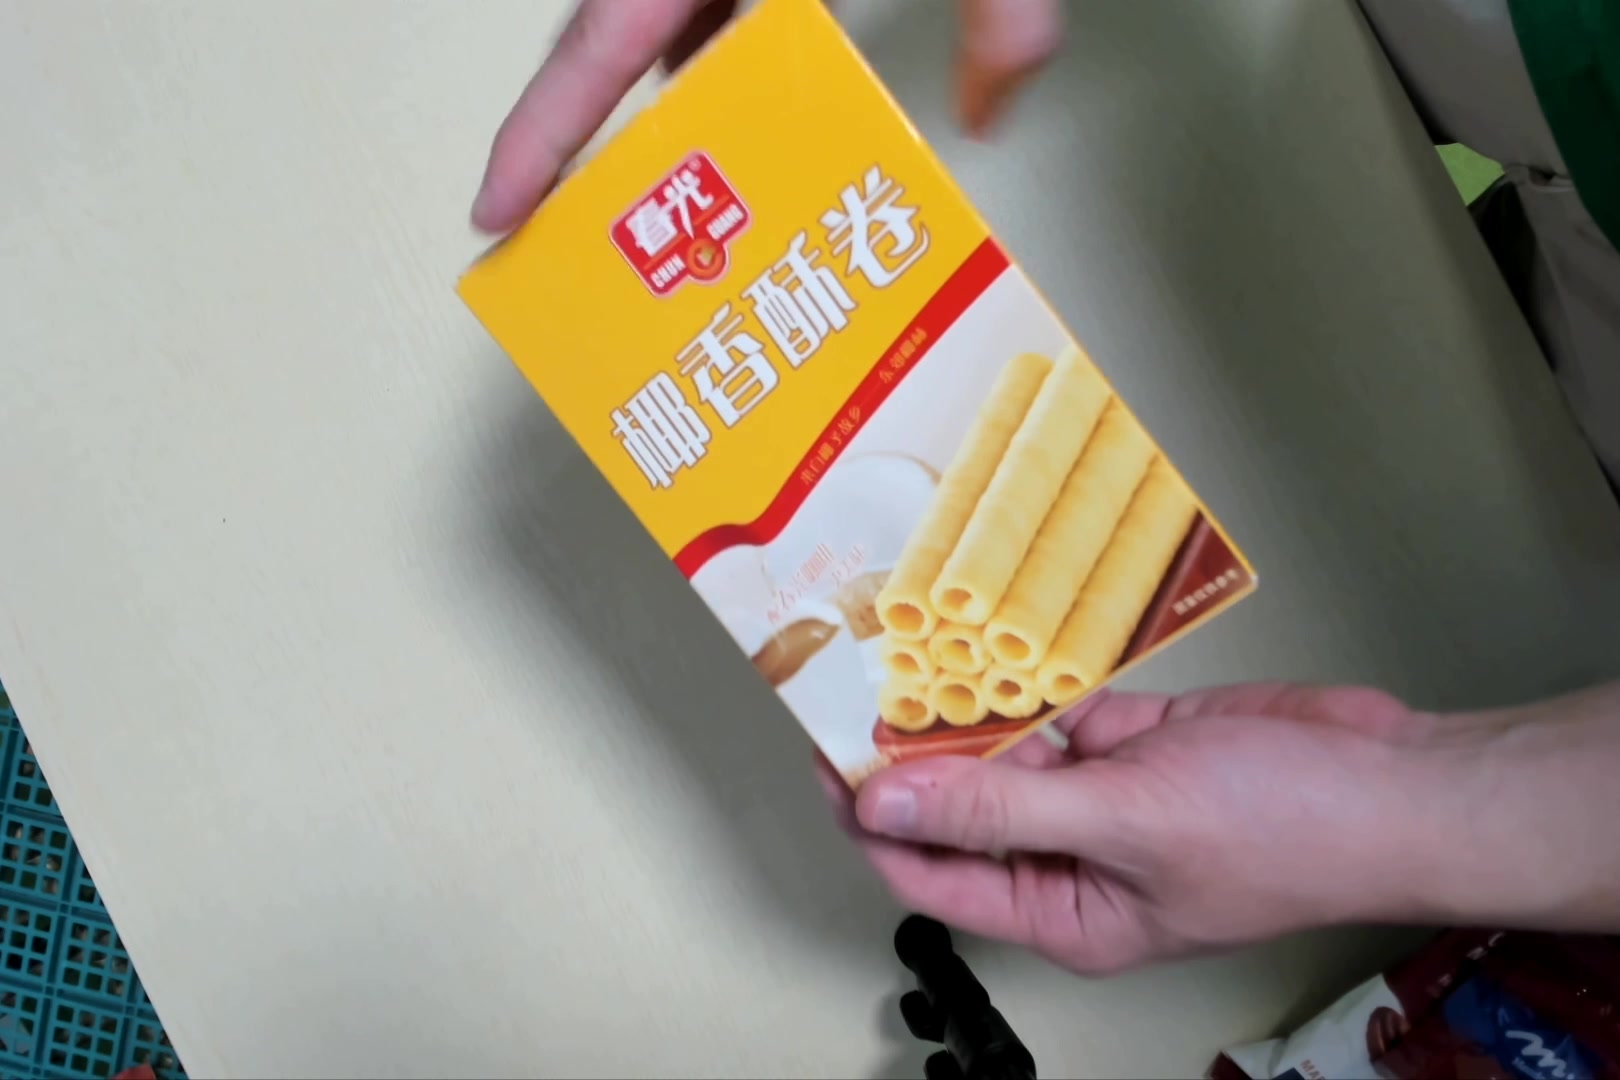BiscuitsCrackersCookies_0-99g_NonHalal_NonHealthy: (462, 1, 1270, 808)
